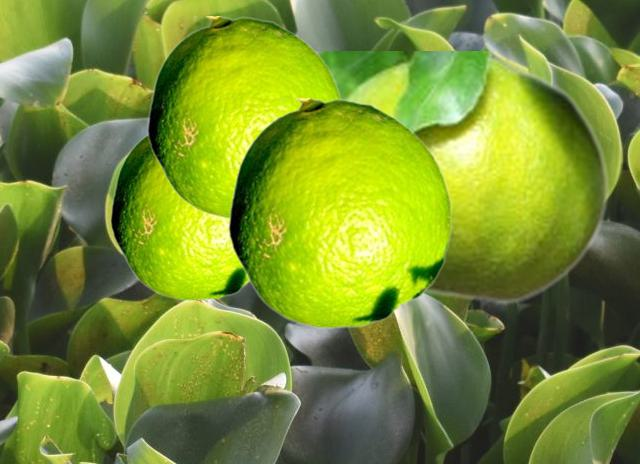dalandan: (317, 51, 609, 304), (228, 98, 451, 328), (147, 16, 343, 218), (110, 133, 249, 300)
